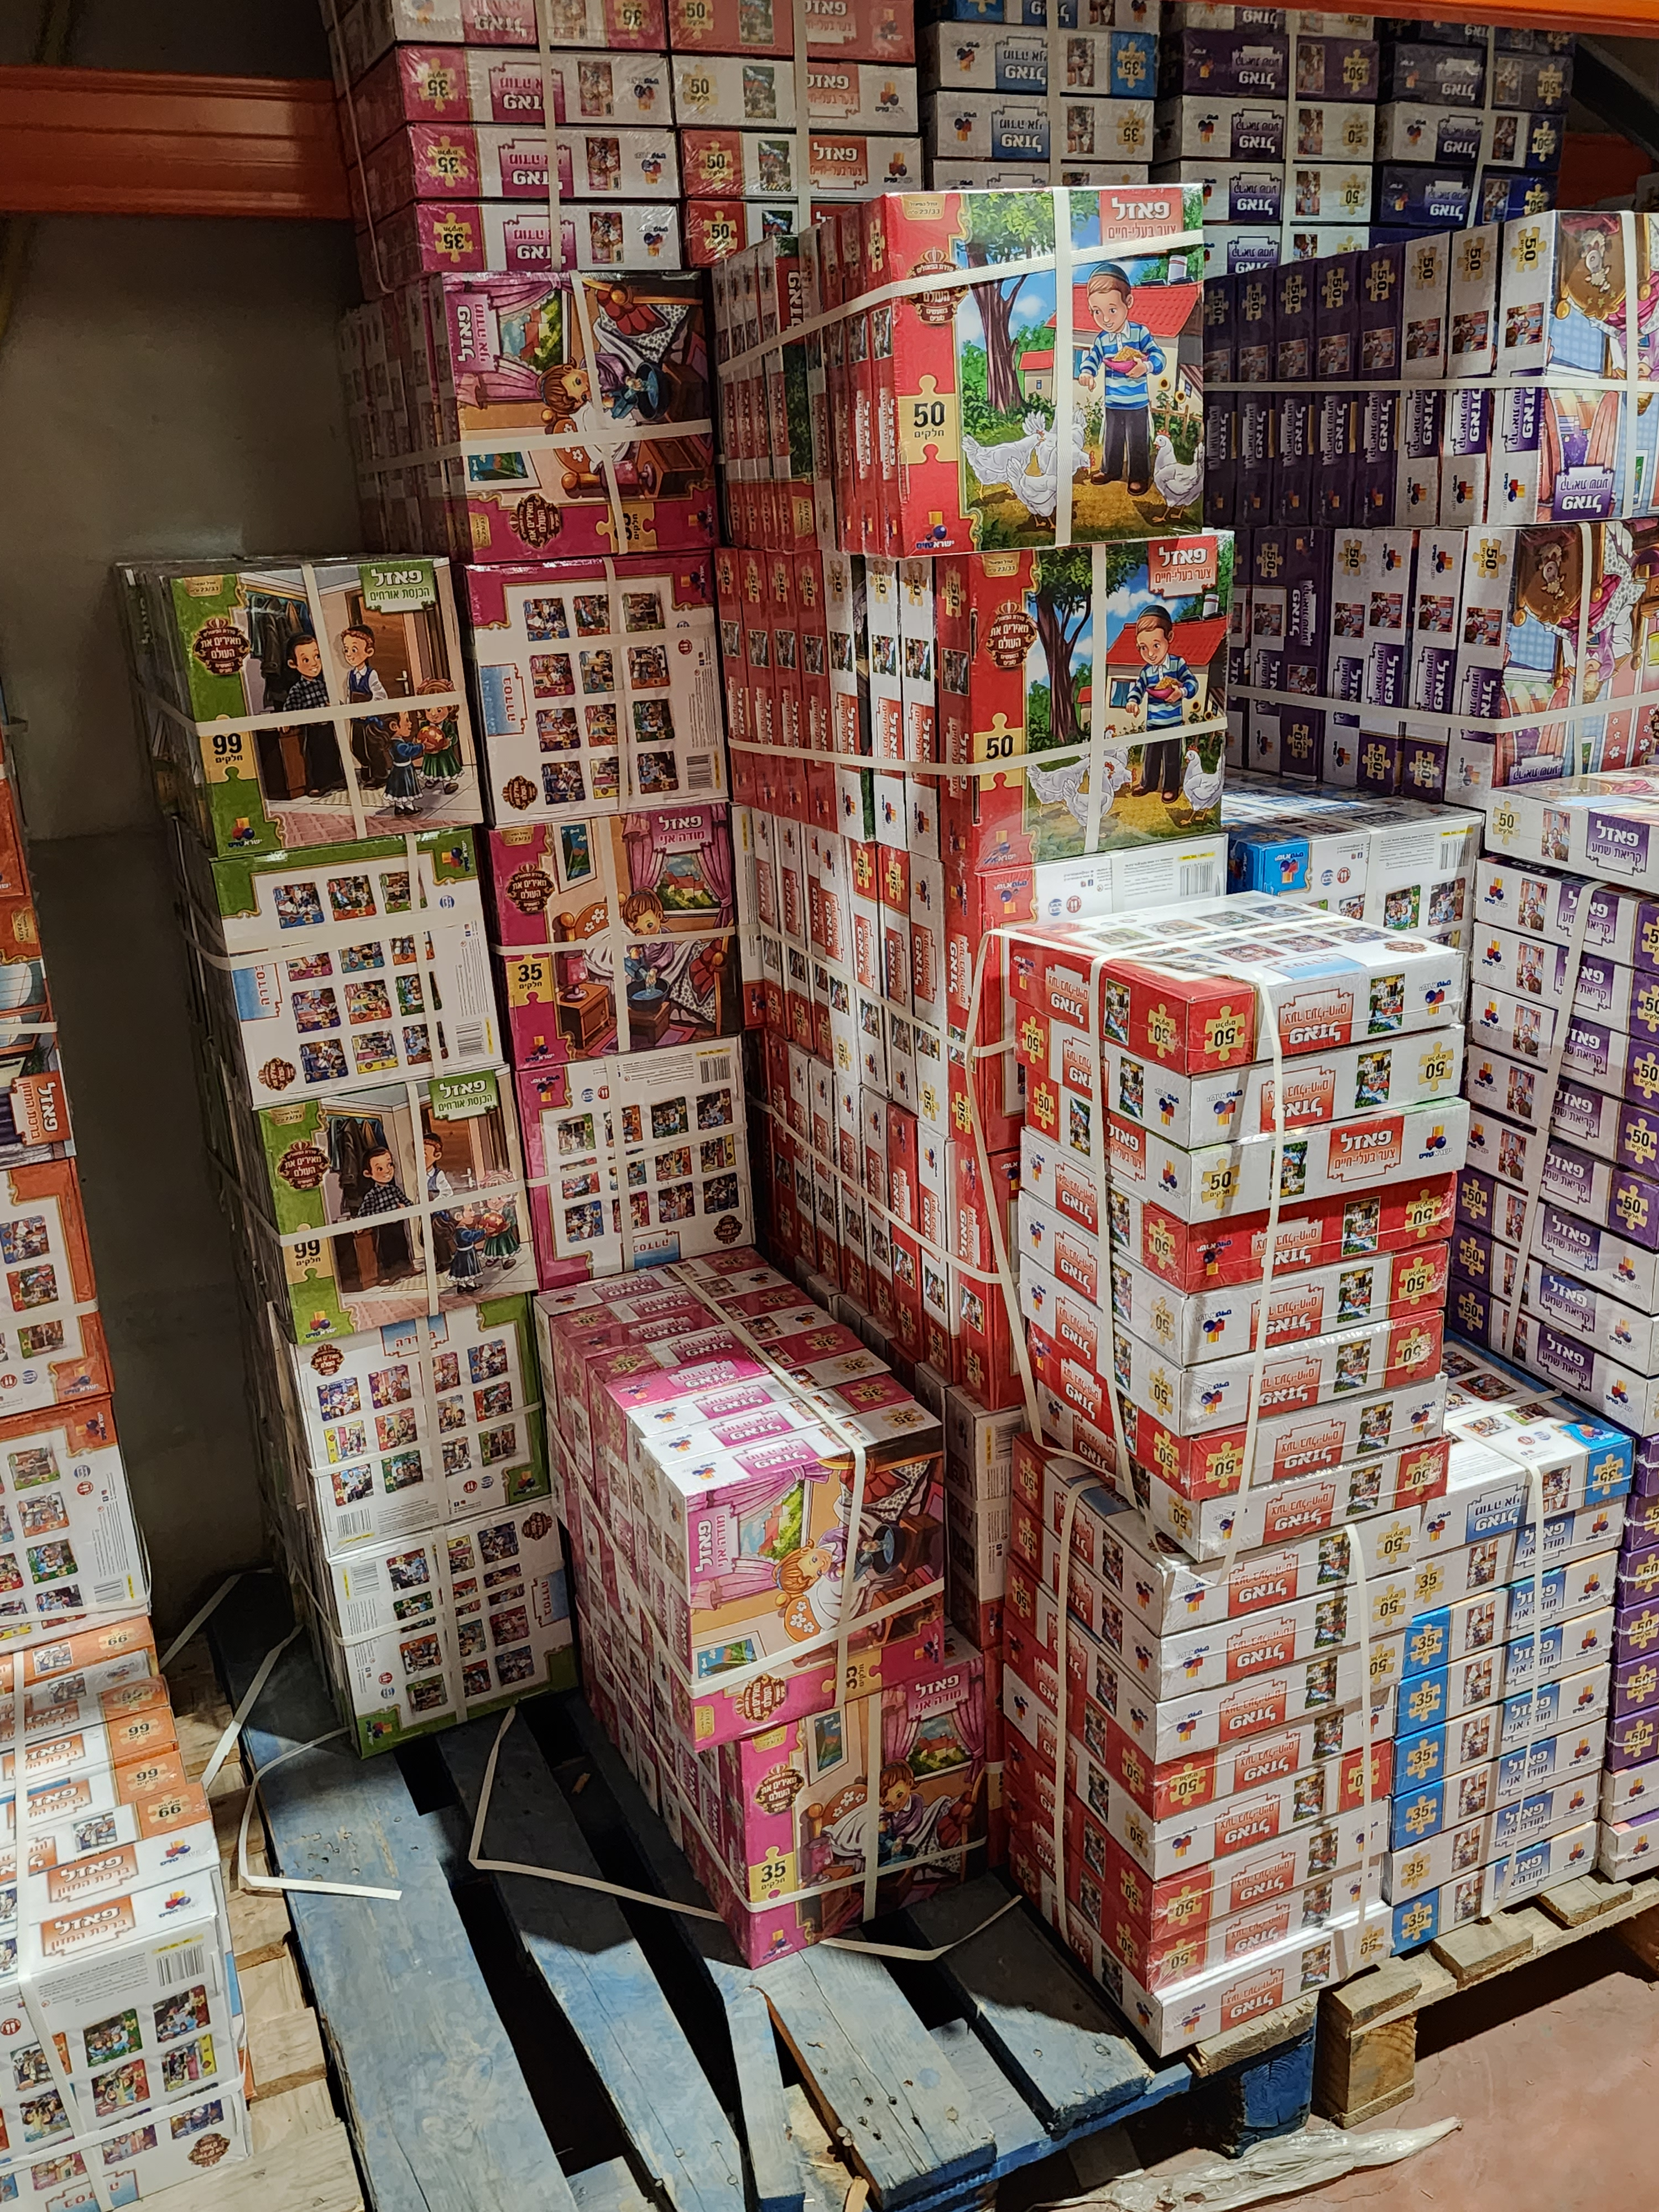box: (993, 1477, 1598, 2013), (538, 1237, 981, 1743), (1234, 251, 1635, 765), (1009, 1118, 1469, 1538), (1009, 885, 1495, 1211), (568, 1630, 1007, 1954), (99, 540, 505, 867), (441, 810, 798, 1069), (160, 866, 505, 1092), (223, 1069, 547, 1308), (471, 547, 746, 806), (532, 1057, 843, 1285), (298, 1534, 603, 1717), (279, 1332, 565, 1496)
